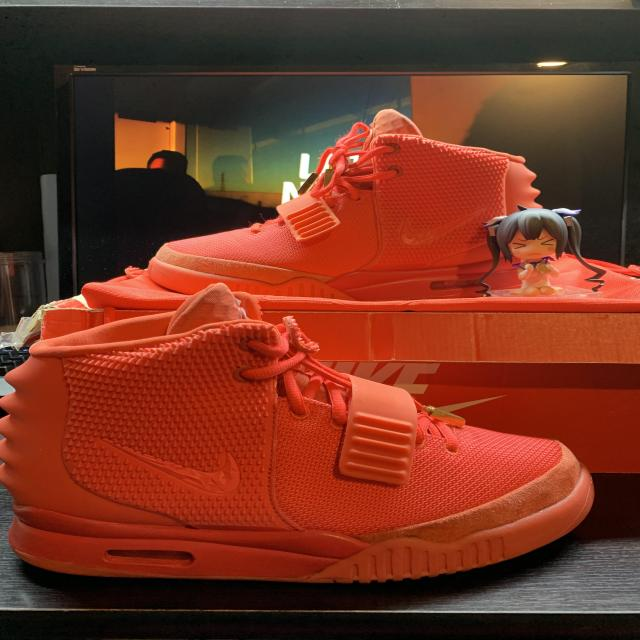shoe: (0, 282, 601, 588), (143, 107, 554, 302)
